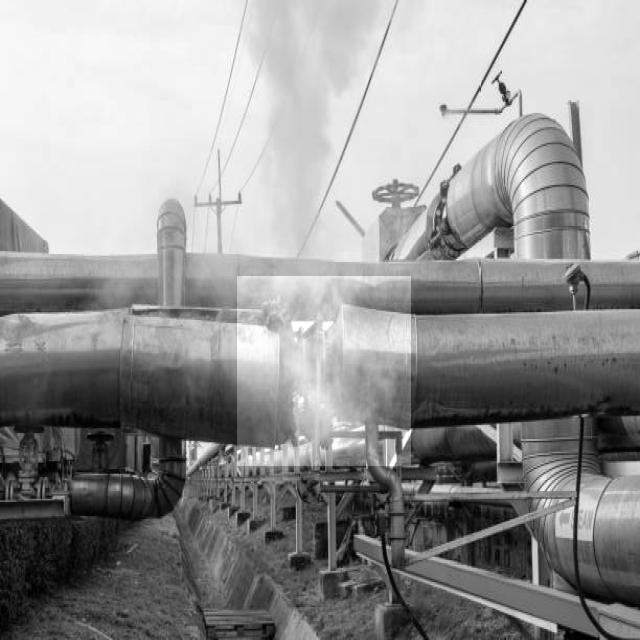corrosion: (255, 287, 395, 460)
